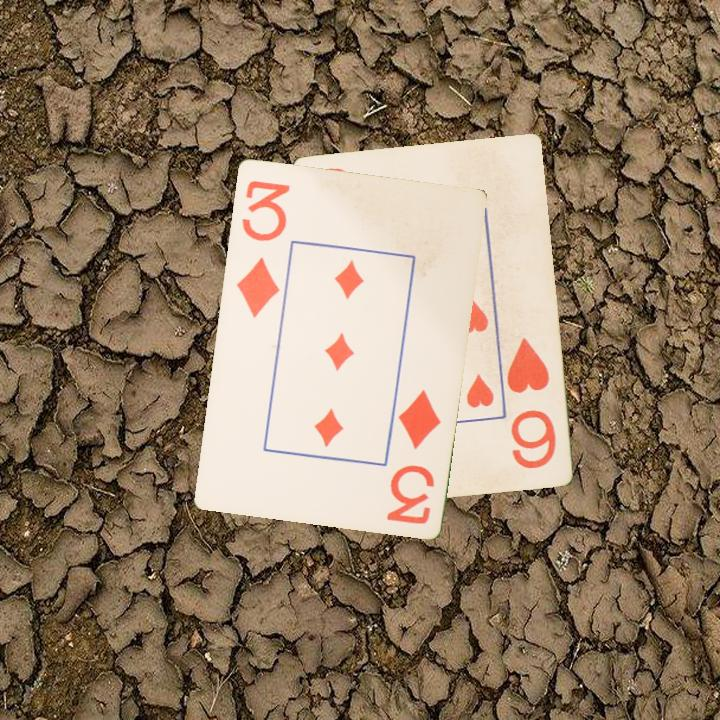3d: (382, 386, 444, 527), (232, 176, 292, 320)
6h: (502, 334, 559, 471)
